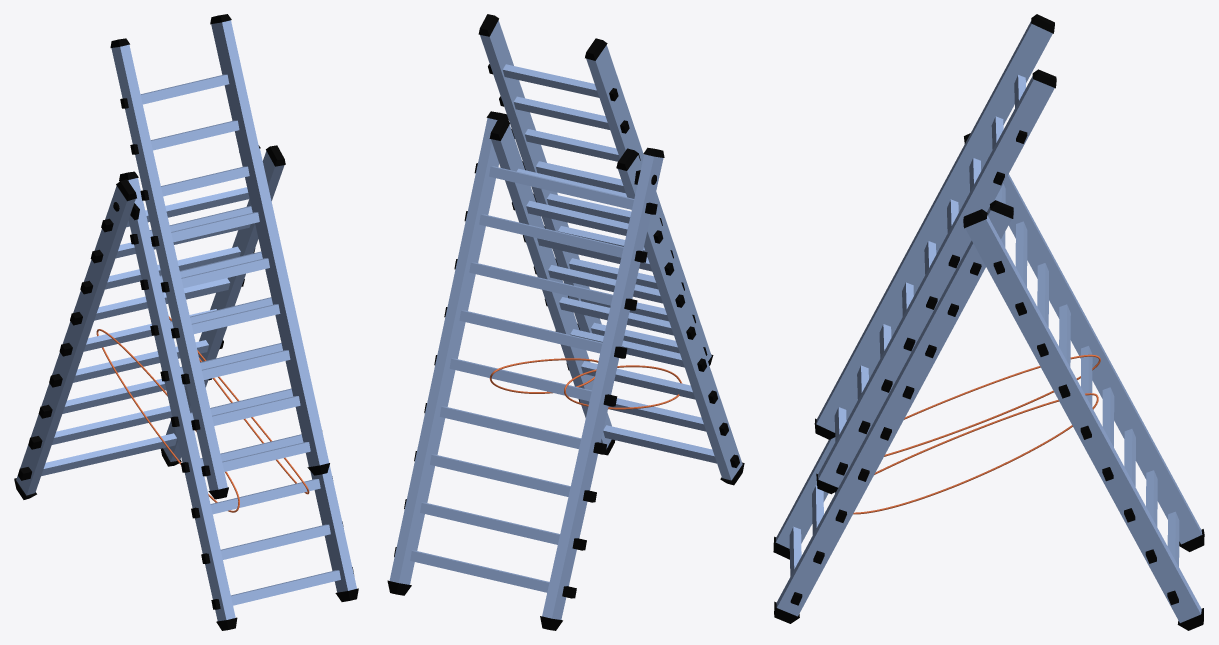
The model's file is Stair8.fbx.
3 views of the same model, side by side, from view 1: azimuth 30°, elevation 25°; view 2: azimuth 150°, elevation 25°; view 3: azimuth 270°, elevation 25° (orthographic). The views are drawn at different scales.
Parts seen in each view (by area): view 1: BezierCircle; view 2: BezierCircle; view 3: BezierCircle.
Boxes of the visible parts, x1,y1,x2,y2 form: BezierCircle: (14, 14, 358, 630); BezierCircle: (387, 14, 744, 630); BezierCircle: (773, 14, 1204, 630).
Bounding box in the file's own units: 655 × 1838 × 1304.
